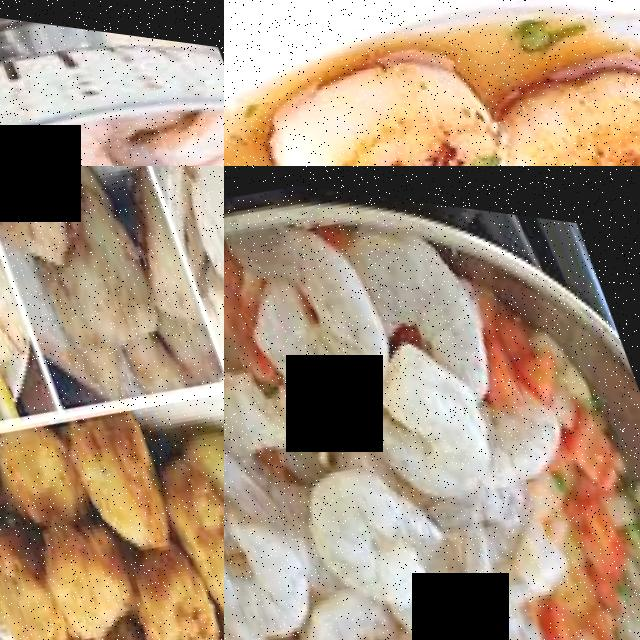sea scallops: (244, 20, 528, 166), (469, 28, 640, 166), (168, 166, 224, 308)
spinach: (224, 190, 399, 407), (282, 439, 444, 619), (354, 349, 507, 510), (348, 193, 484, 348), (224, 456, 320, 640)
